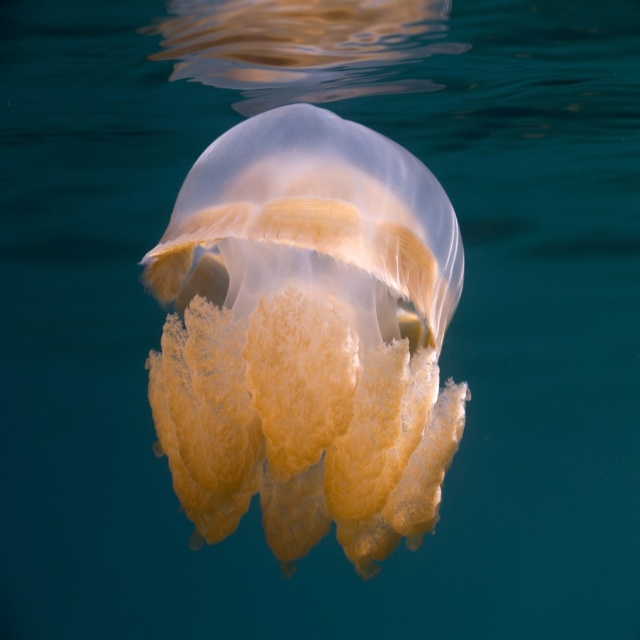Jellyfish: (132, 101, 474, 582)
